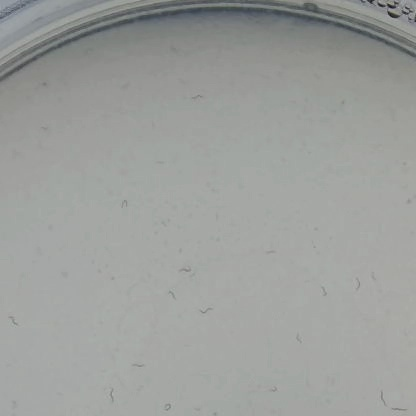worm: (257, 244, 294, 263), (187, 400, 228, 416), (152, 394, 176, 415), (162, 280, 180, 307), (370, 265, 387, 293), (292, 326, 309, 353), (103, 380, 119, 408), (261, 381, 287, 398), (194, 298, 216, 318), (374, 383, 390, 410), (124, 357, 151, 372), (108, 194, 135, 209), (1, 312, 23, 329), (172, 261, 194, 277), (353, 267, 363, 300), (186, 88, 208, 103), (387, 406, 414, 416), (154, 157, 171, 172), (313, 288, 333, 299)
